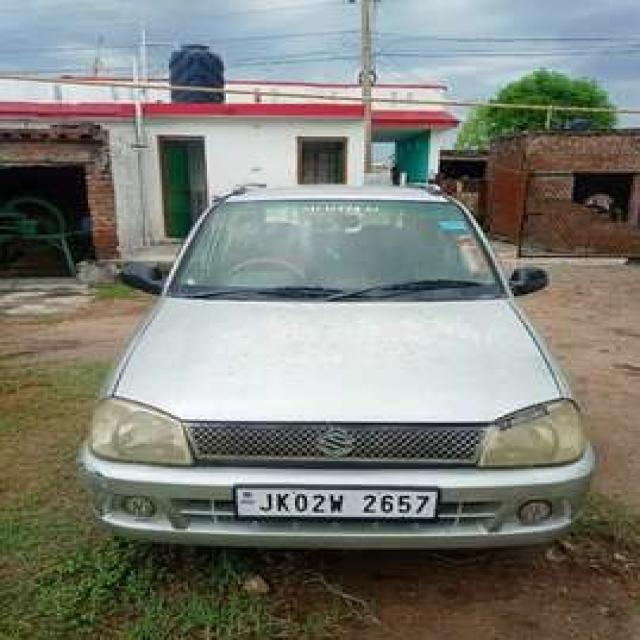plate: (231, 484, 438, 521)
